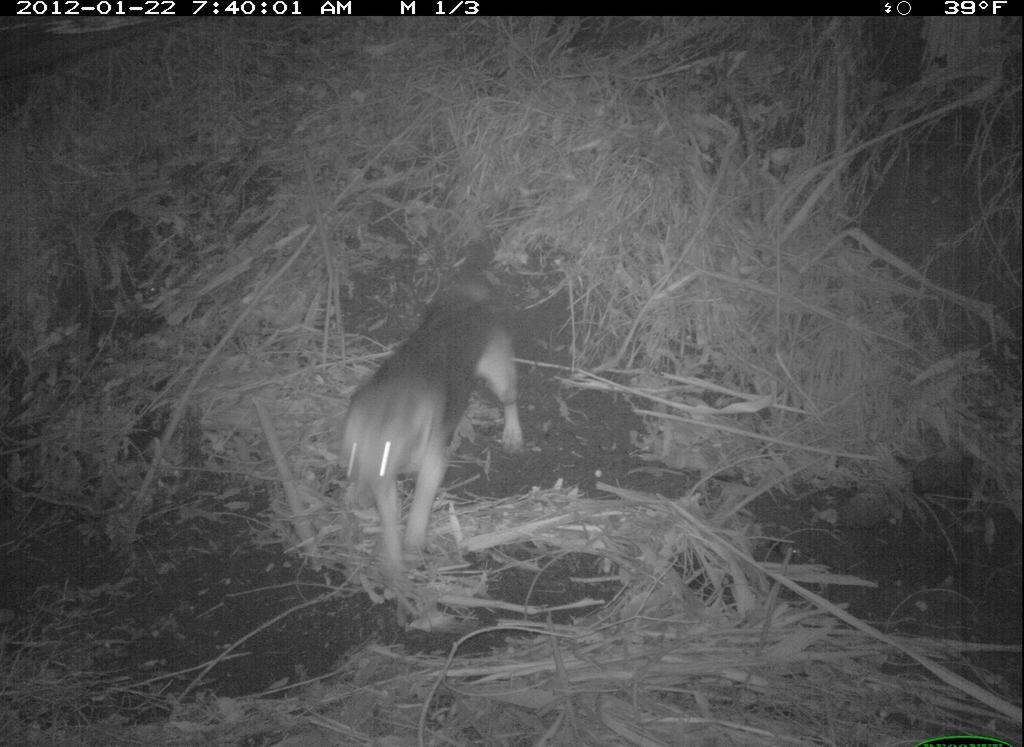dog: (333, 225, 547, 605)
